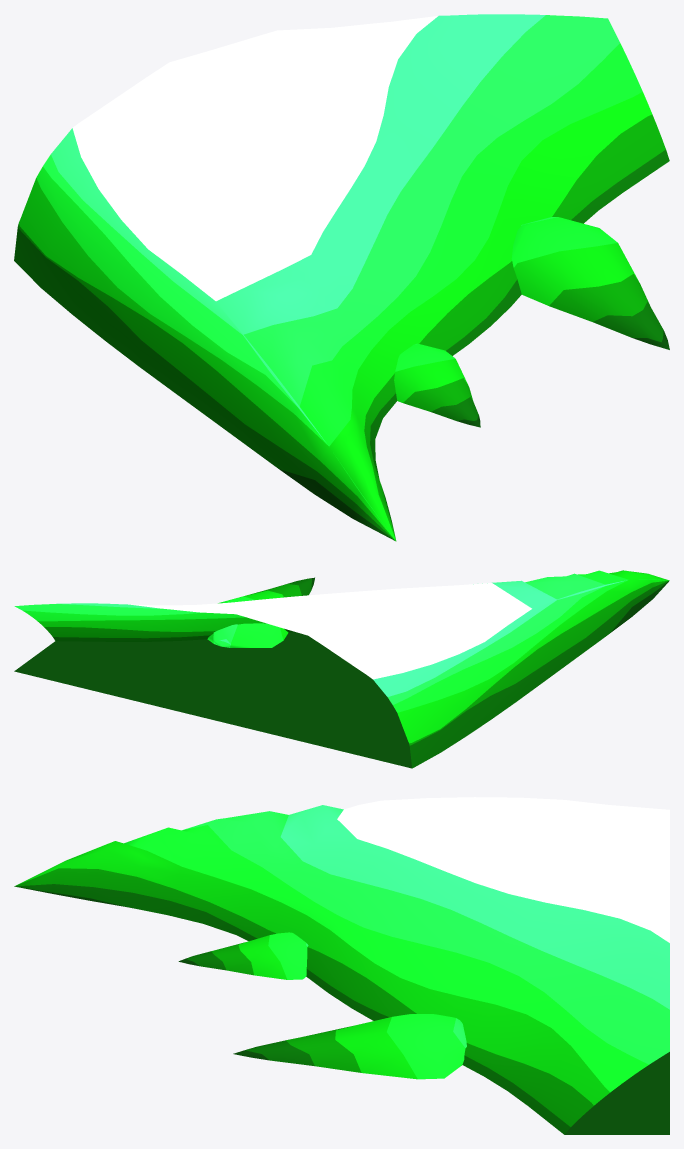
Rendered from shot_charge_b286.glb.
3 renders of one model, top to bottom at view 1: azimuth 30°, elevation 25°; view 2: azimuth 150°, elevation 25°; view 3: azimuth 270°, elevation 25°, orthographic. The views are drawn at different scales.
Parts seen in each view (by area): view 1: charge_great_wave_shot_charge_b286, charge_great_drip3_shot_charge_b286, charge_great_drip5_shot_charge_b286; view 2: charge_great_wave_shot_charge_b286, charge_great_drip3_shot_charge_b286; view 3: charge_great_wave_shot_charge_b286, charge_great_drip3_shot_charge_b286, charge_great_drip5_shot_charge_b286.
Boxes of the visible parts, x1=… form: charge_great_wave_shot_charge_b286: x1=14, y1=14, x2=669, y2=541; charge_great_drip3_shot_charge_b286: x1=511, y1=217, x2=669, y2=349; charge_great_drip5_shot_charge_b286: x1=394, y1=343, x2=480, y2=427; charge_great_wave_shot_charge_b286: x1=14, y1=570, x2=669, y2=768; charge_great_drip3_shot_charge_b286: x1=207, y1=577, x2=314, y2=647; charge_great_wave_shot_charge_b286: x1=14, y1=797, x2=669, y2=1134; charge_great_drip3_shot_charge_b286: x1=233, y1=1014, x2=466, y2=1079; charge_great_drip5_shot_charge_b286: x1=178, y1=932, x2=308, y2=979.
Bounding box in the file's own units: 11 × 2.87 × 12.
